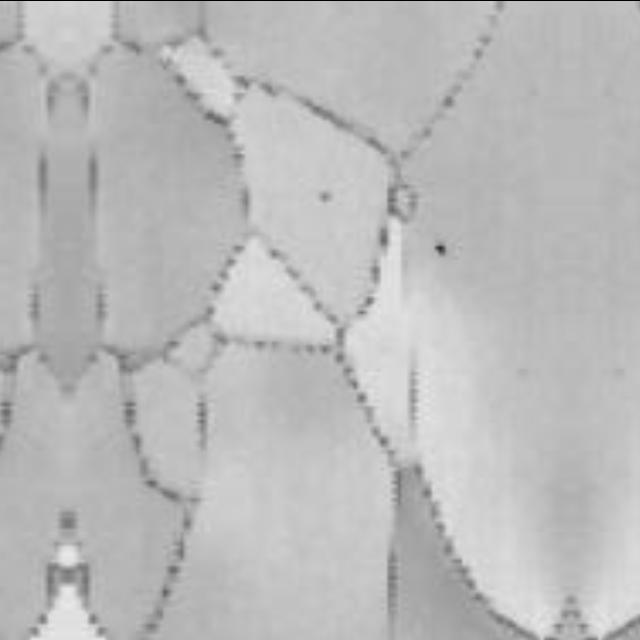good_void: (319, 184, 340, 206), (433, 239, 450, 257)
